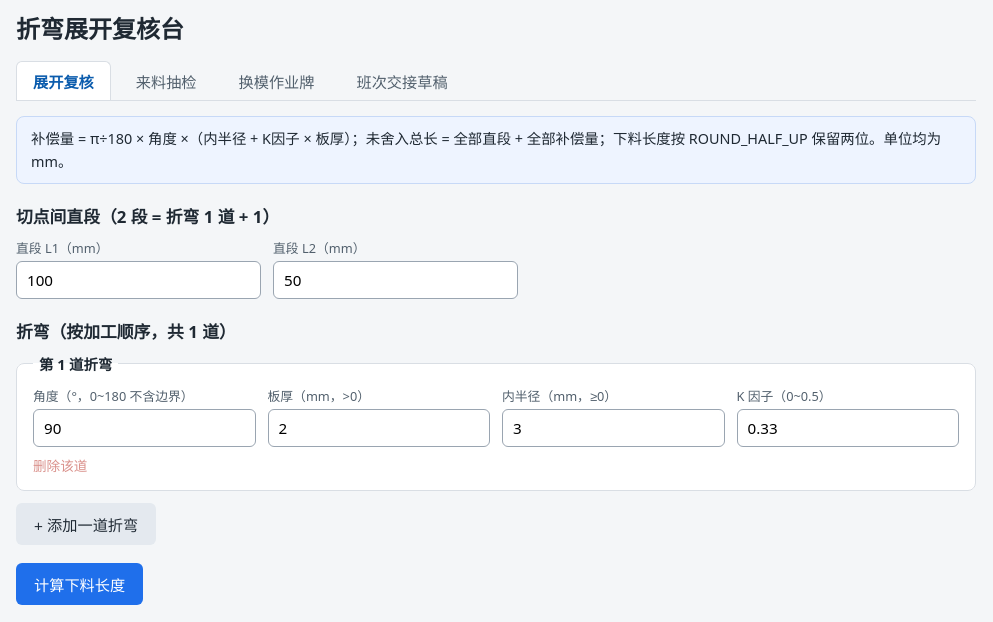
Scenario: 换模作业牌视图 › 认领请求携带姓名、模具说明与当前修订号，成功后以服务端快照更新卡片
Click the tab "换模作业牌" at (276, 81), box x1=222 y1=61 x2=331 y2=100
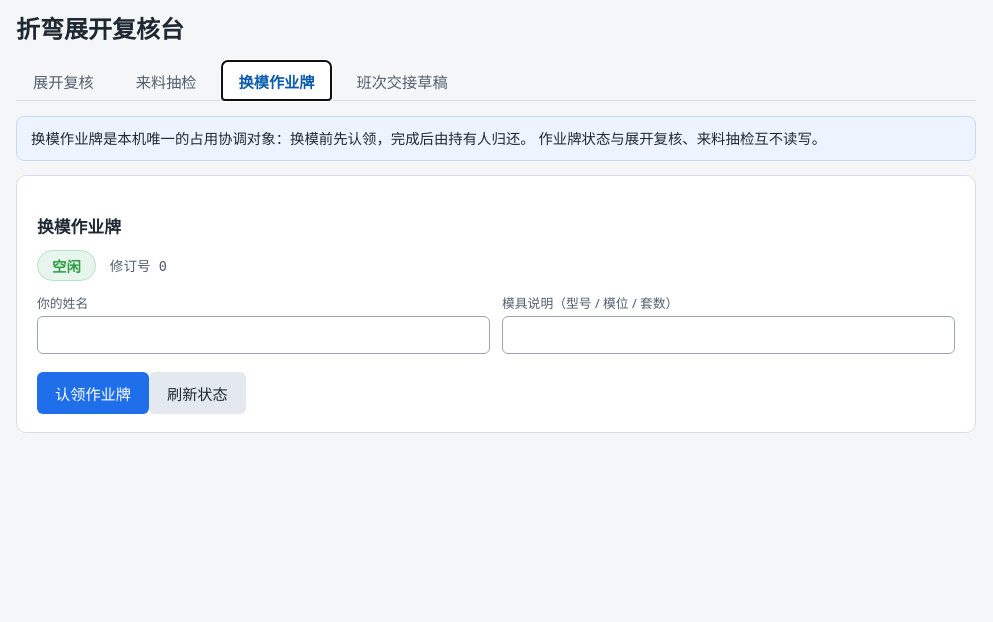
Expected: the text "空闲" is shown, x1=37 y1=250 x2=96 y2=281
Type "张三" into the field labelled "你的姓名" at (264, 335), box x1=37 y1=316 x2=490 y2=354
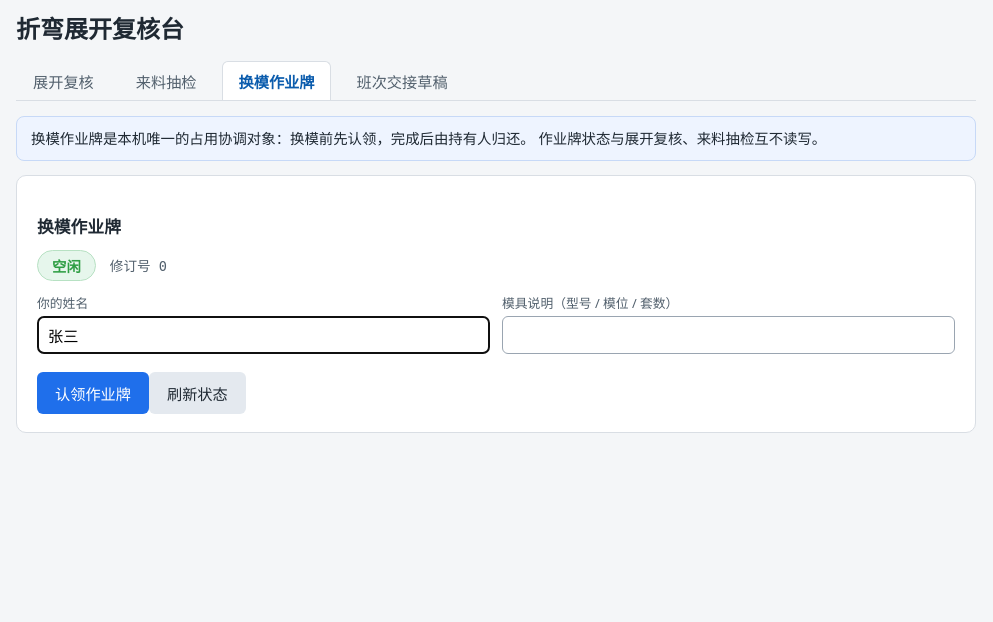
Type "V 模 R3 一套" into the field labelled "模具说明（型号 / 模位 / 套数）" at (728, 335), box x1=502 y1=316 x2=955 y2=354
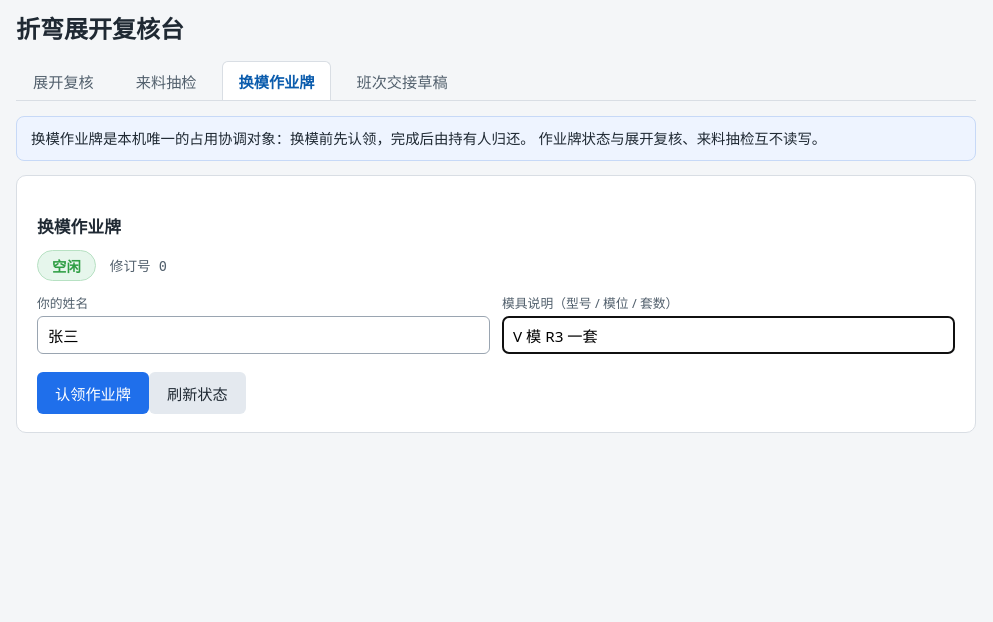
Click the button with test id "board-claim" at (93, 393), box x1=37 y1=372 x2=149 y2=414
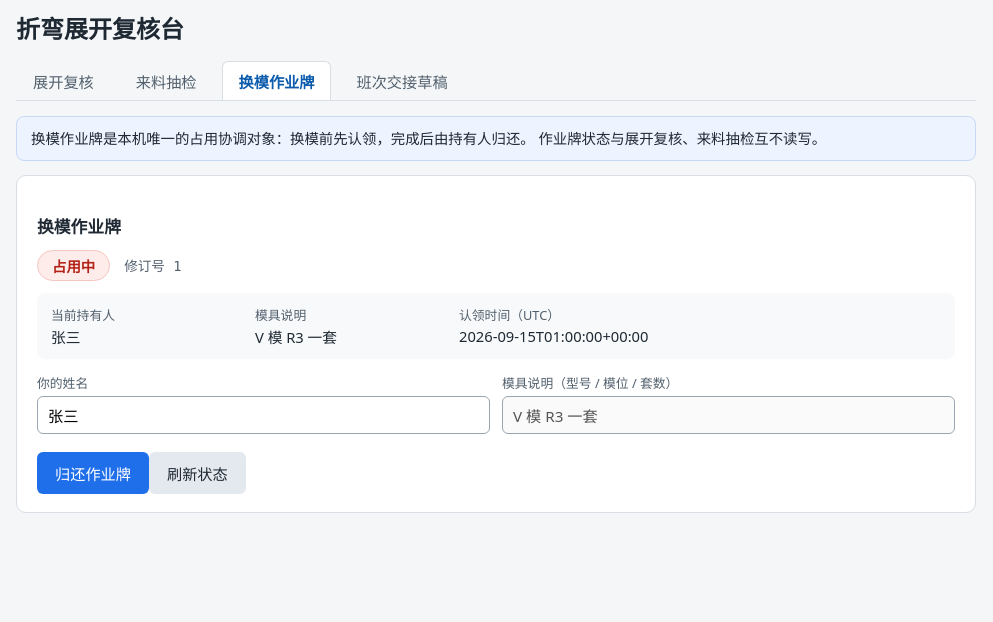
Expected: the text with test id "board-state" reads "占用中", x1=52 y1=257 x2=95 y2=276
Expected: the text with test id "board-current-holder" reads "张三", x1=51 y1=327 x2=80 y2=347
Expected: the text with test id "board-revision" reads "修订号 1", x1=124 y1=256 x2=181 y2=276
